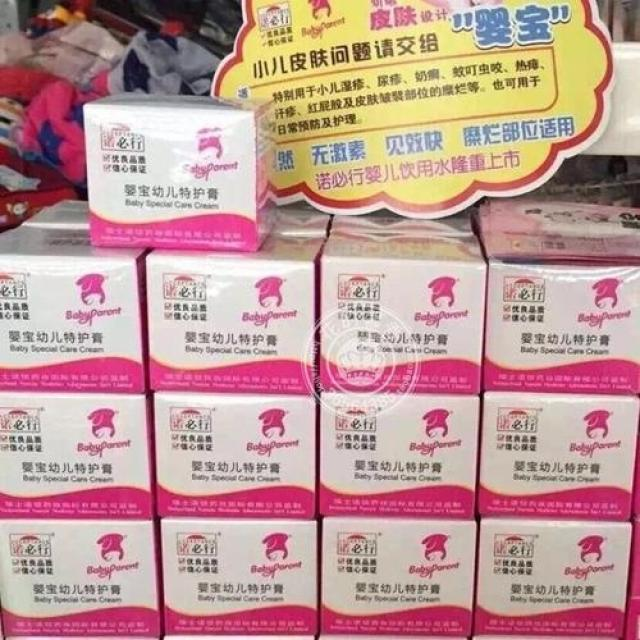box: (145, 210, 334, 397), (84, 92, 282, 252), (316, 233, 488, 394), (1, 229, 151, 393), (477, 389, 640, 522), (154, 388, 317, 520), (316, 389, 481, 517), (483, 259, 640, 393), (1, 390, 157, 520), (1, 517, 165, 636), (157, 517, 321, 636), (472, 517, 632, 636), (324, 517, 477, 636), (332, 215, 476, 234), (20, 200, 88, 230), (5, 635, 159, 640)
